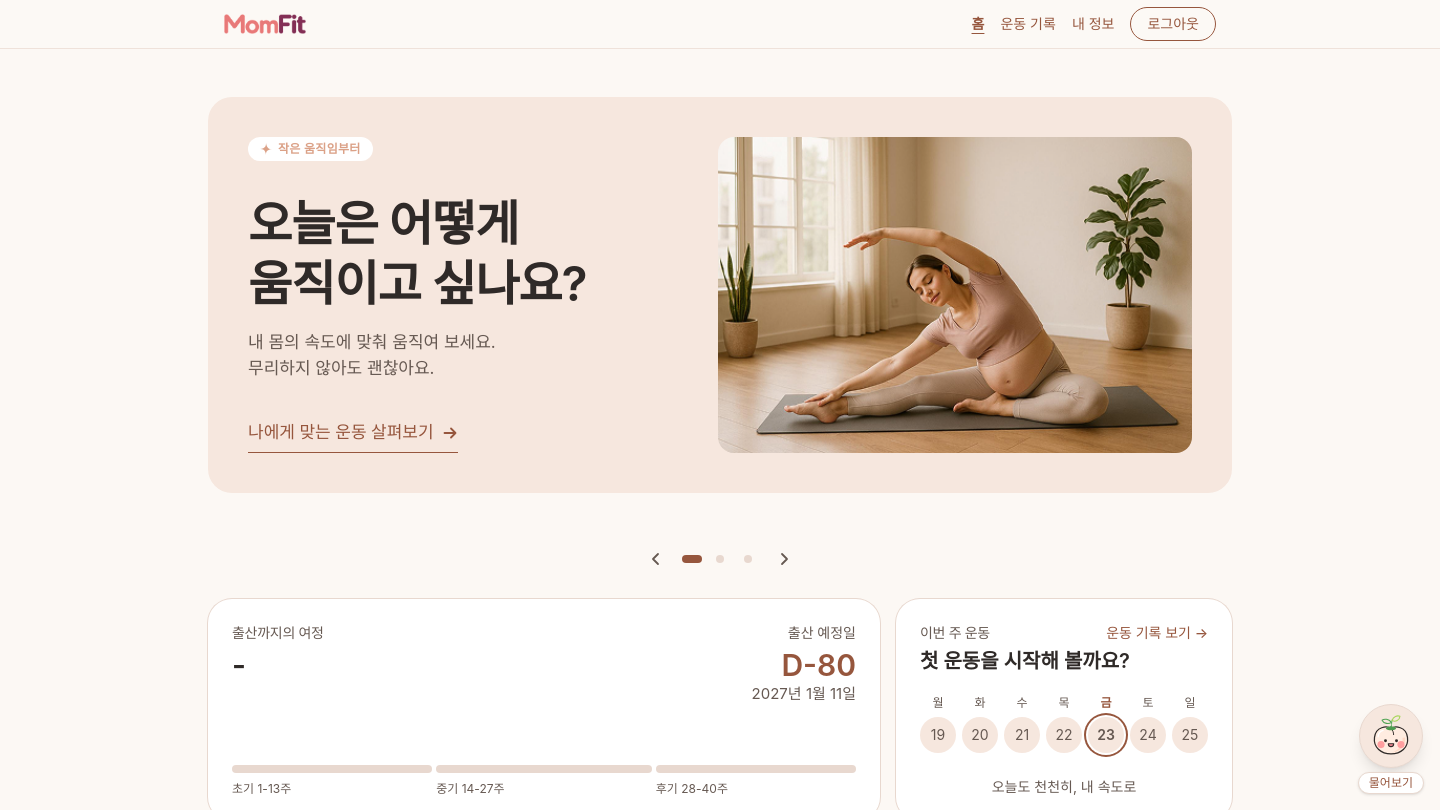
Test: HomePage 히어로 › 임신 주차를 모르면 이름만으로 인사한다
Step 1. Click the button named "다음 슬라이드" → click(784, 558), box [768,542,800,574]
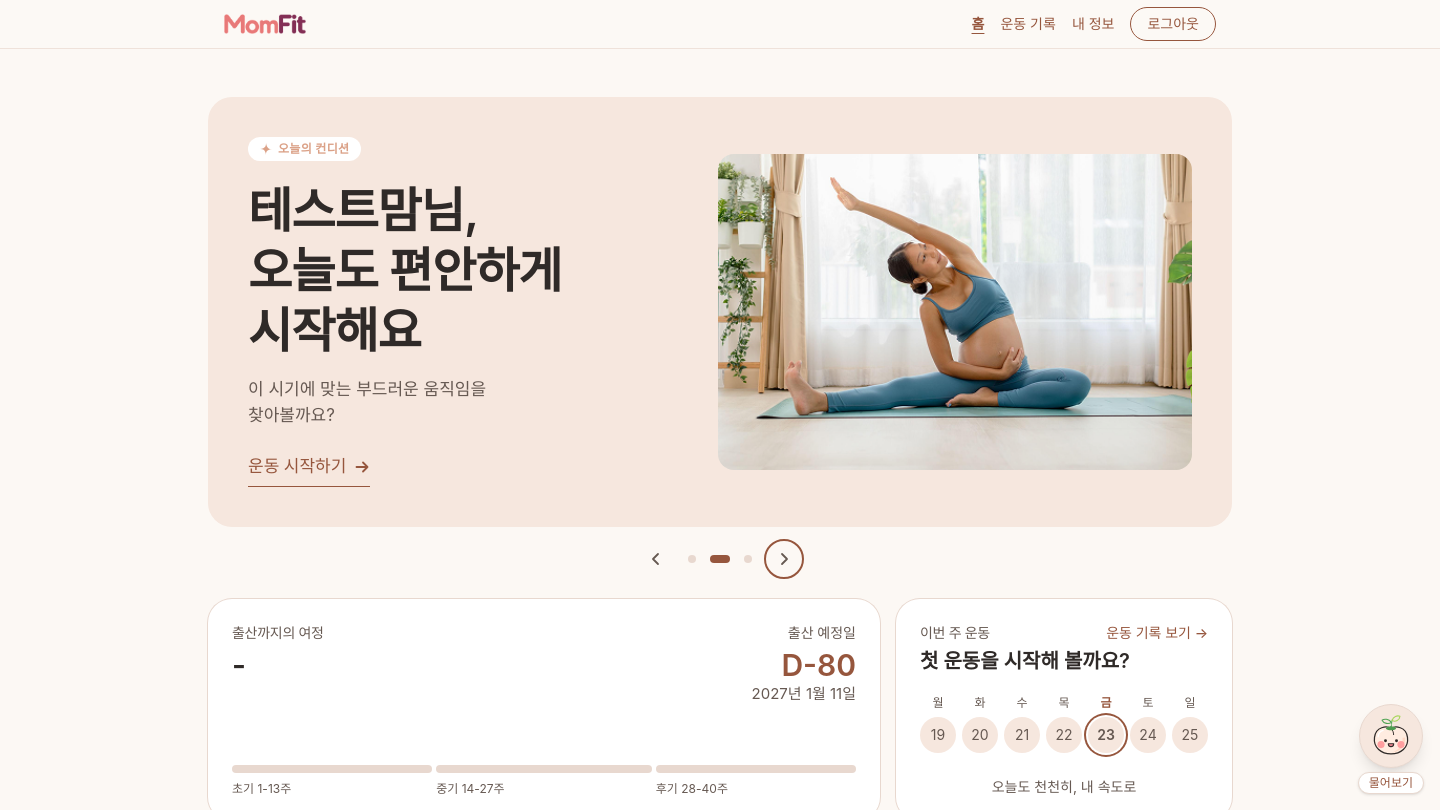
Expected: the heading "테스트맘님, 오늘도 편안하게 시작해요" does not show "주차", [248,181,562,360]
Expected: the heading "테스트맘님, 오늘도 편안하게 시작해요" is shown, [248,181,562,360]
